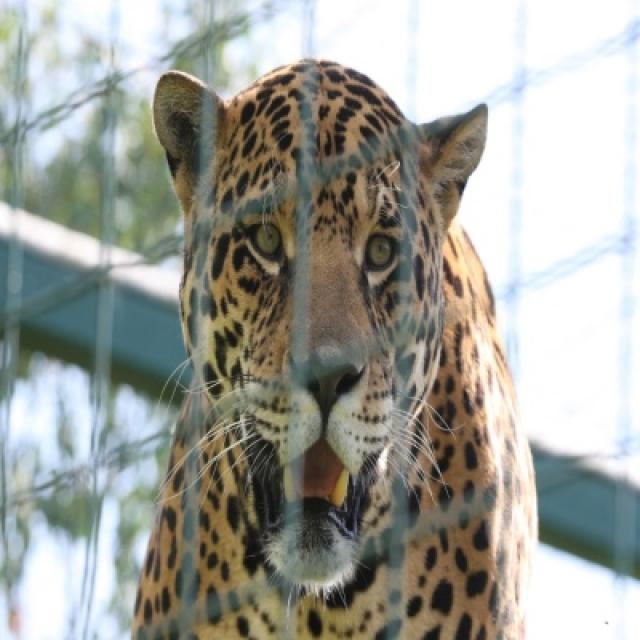Jaguar: (131, 59, 533, 638)
